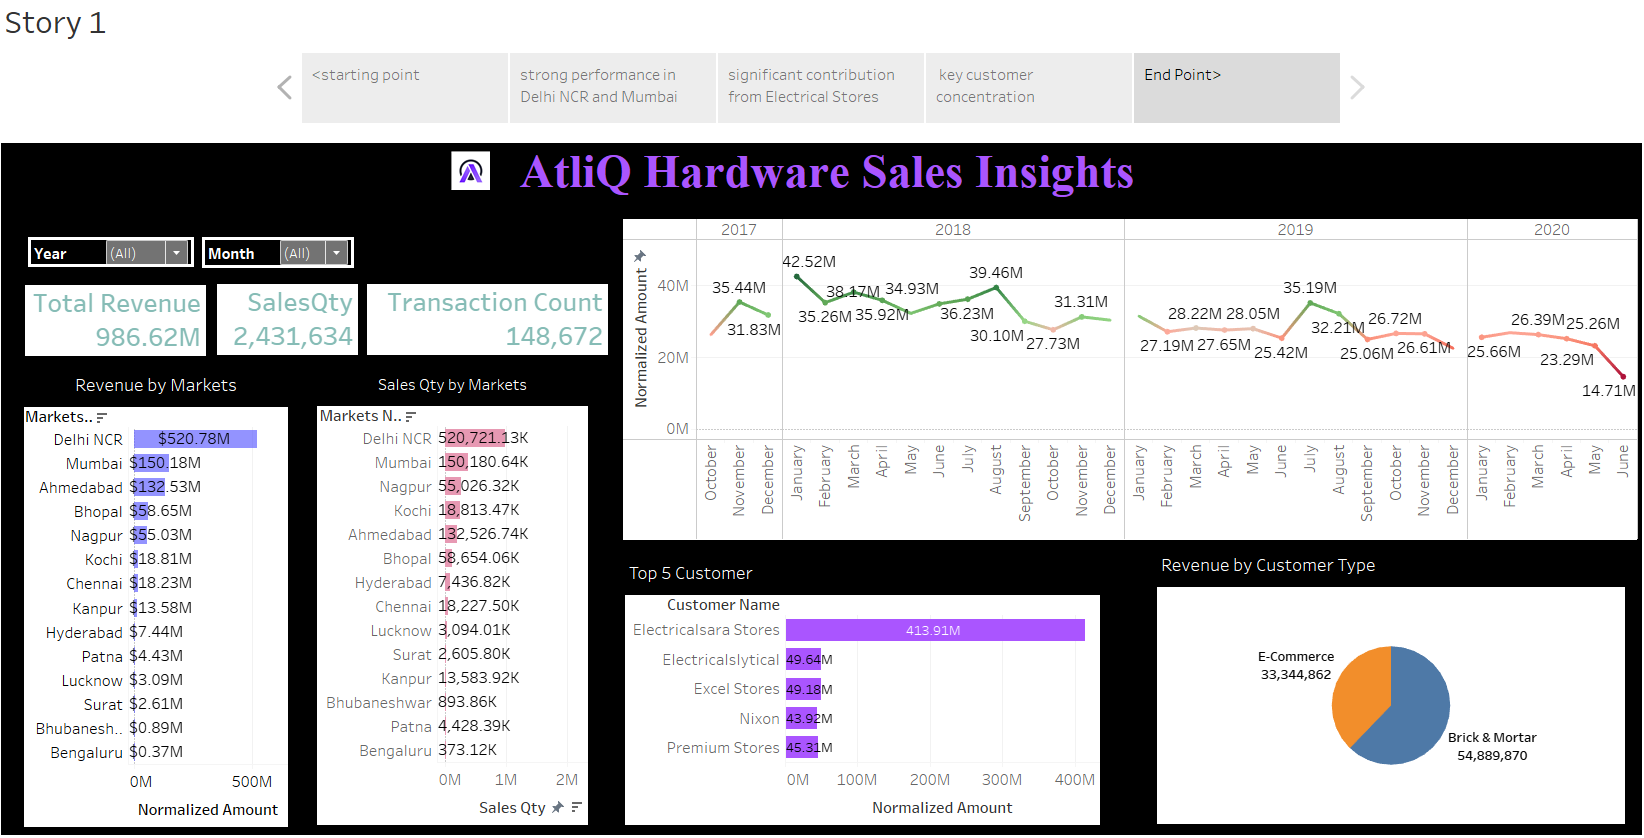

The page's visual inventory and layout, read from the dashboard file:
{"tool":"tableau","page":{"name":"Dashboard 1","canvas":[1000,1000],"units":"permille","ordinal":0},"visuals":[{"type":"image","param":"Image/atliq logo.png","box":[274,12.6,32.6,55.2]},{"type":"worksheet","title":"Revenue by Year","mark":"Automatic","rows":["Calculation_735775599199322112"],"cols":["cy-date","cy-date"],"box":[379,109.8,619.2,464.5]},{"type":"filter","title":"Revenue by Year","param":"[federated.12w4wcq1mp1xi51cexiz00513ge6].[mn:cy-date:ok]","box":[141.9,135.5,92.8,43.9]},{"type":"filter","title":"Revenue by Year","param":"[federated.12w4wcq1mp1xi51cexiz00513ge6].[yr:cy-date:ok]","box":[16.6,136.6,101.4,42.8]},{"type":"worksheet","title":"Revenue","mark":"Automatic","box":[14.7,204.8,115.5,121.8]},{"type":"worksheet","title":"Qty Sales","mark":"Automatic","box":[143.7,205.8,96.4,117.9]},{"type":"worksheet","title":"Trans.count","mark":"Automatic","box":[247.5,207,104.4,89.1]},{"type":"worksheet","title":"Revenue by Markets","mark":"Automatic","rows":["markets_name"],"cols":["Calculation_735775599199322112"],"box":[14.1,321.2,346.4,666.2]},{"type":"worksheet","title":"Revenue by customer type","mark":"Pie","box":[704.6,585,285,398.9]},{"type":"worksheet","title":"Top 5 Customer","mark":"Automatic","rows":["customer_name"],"cols":["Calculation_735775599199322112"],"box":[380.2,597.1,289.3,388.2]}]}

Visuals, with their boxes on the dashboard's canvas, which has no fixed pixel size, in thousandths of its width and height (x1, y1, x2, y2). These are canvas units, not pixel positions in the 1644x838 screenshot, which may show the page scaled, cropped or inside an application window:
image: 274:13:307:68
"Revenue by Year" worksheet: 379:110:998:574
"Revenue by Year" filter: 142:136:235:179
"Revenue by Year" filter: 17:137:118:179
"Revenue" worksheet: 15:205:130:327
"Qty Sales" worksheet: 144:206:240:324
"Trans.count" worksheet: 248:207:352:296
"Revenue by Markets" worksheet: 14:321:360:987
"Revenue by customer type" worksheet (Pie marks): 705:585:990:984
"Top 5 Customer" worksheet: 380:597:670:985
